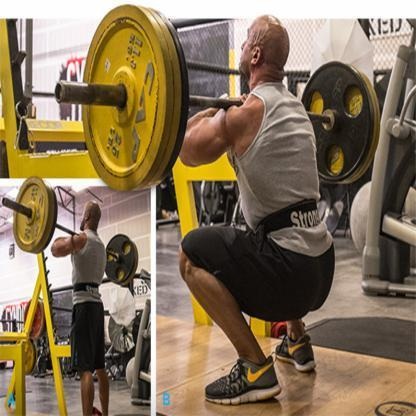barbell: (53, 1, 383, 196), (1, 176, 139, 288)
